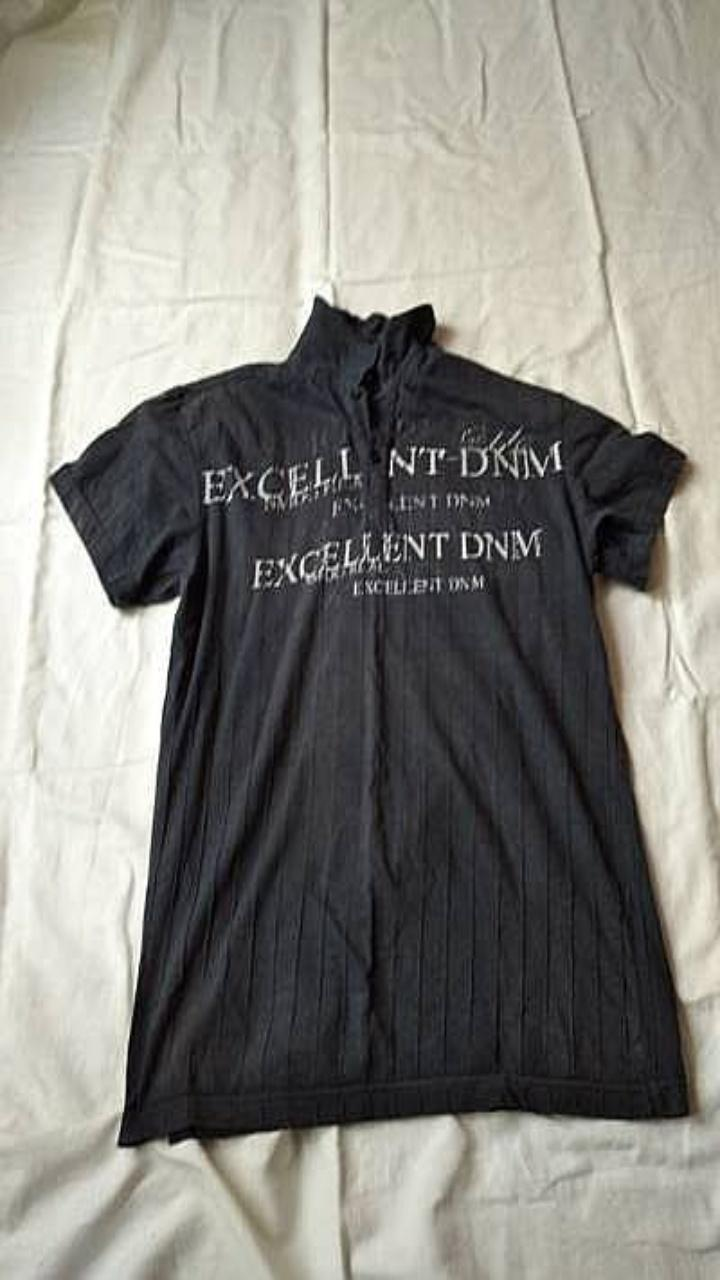T-Shirt: (50, 295, 688, 1145)
